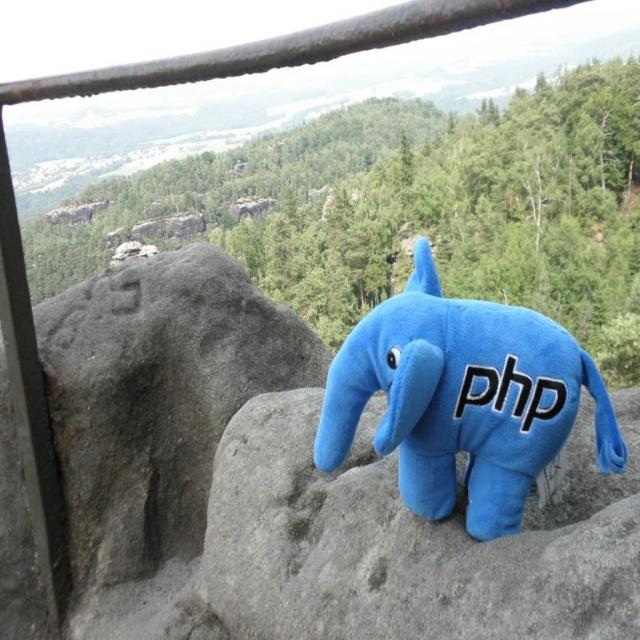elephant: (313, 272, 610, 552)
